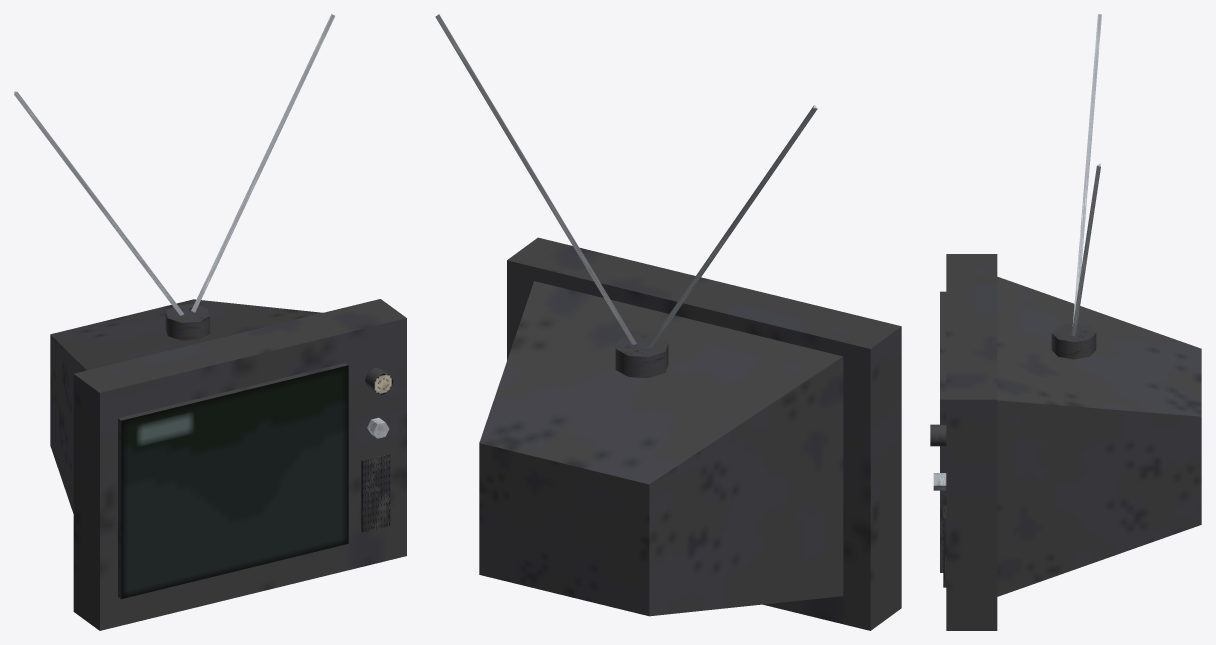
3 renders of one model, left to right at view 1: azimuth 30°, elevation 25°; view 2: azimuth 150°, elevation 25°; view 3: azimuth 270°, elevation 25°, orthographic. The views are drawn at different scales.
Parts seen in each view (by area): view 1: tv, tv_knob; view 2: tv; view 3: tv, tv_knob.
Part boxes in pixels (x1=…): tv: x1=14, y1=14, x2=406, y2=630; tv_knob: x1=365, y1=367, x2=393, y2=394; tv: x1=435, y1=14, x2=901, y2=630; tv: x1=933, y1=14, x2=1201, y2=630; tv_knob: x1=930, y1=424, x2=946, y2=446.
Size of the model in its own units: 0.5657 by 0.8119 by 0.425.
Materials: 1 (1 with a texture image).
